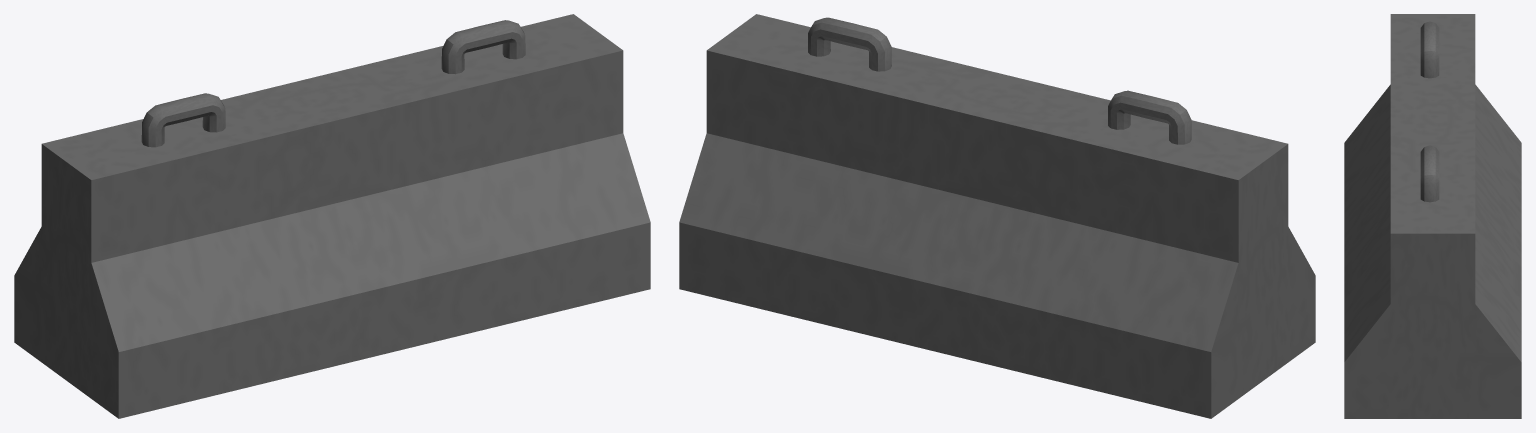
The model's file is ConcreteSporud.fbx.
3 renders of one model, left to right at view 1: azimuth 30°, elevation 25°; view 2: azimuth 150°, elevation 25°; view 3: azimuth 270°, elevation 25°, orthographic. The views are drawn at different scales.
Parts seen in each view (by area): view 1: Cube.051; view 2: Cube.051; view 3: Cube.051.
Part boxes in pixels (bbox=[...]): Cube.051: bbox=[14, 14, 650, 418]; Cube.051: bbox=[679, 14, 1315, 418]; Cube.051: bbox=[1344, 14, 1521, 418].
Bounding box in the file's own units: 309 × 141 × 105.
